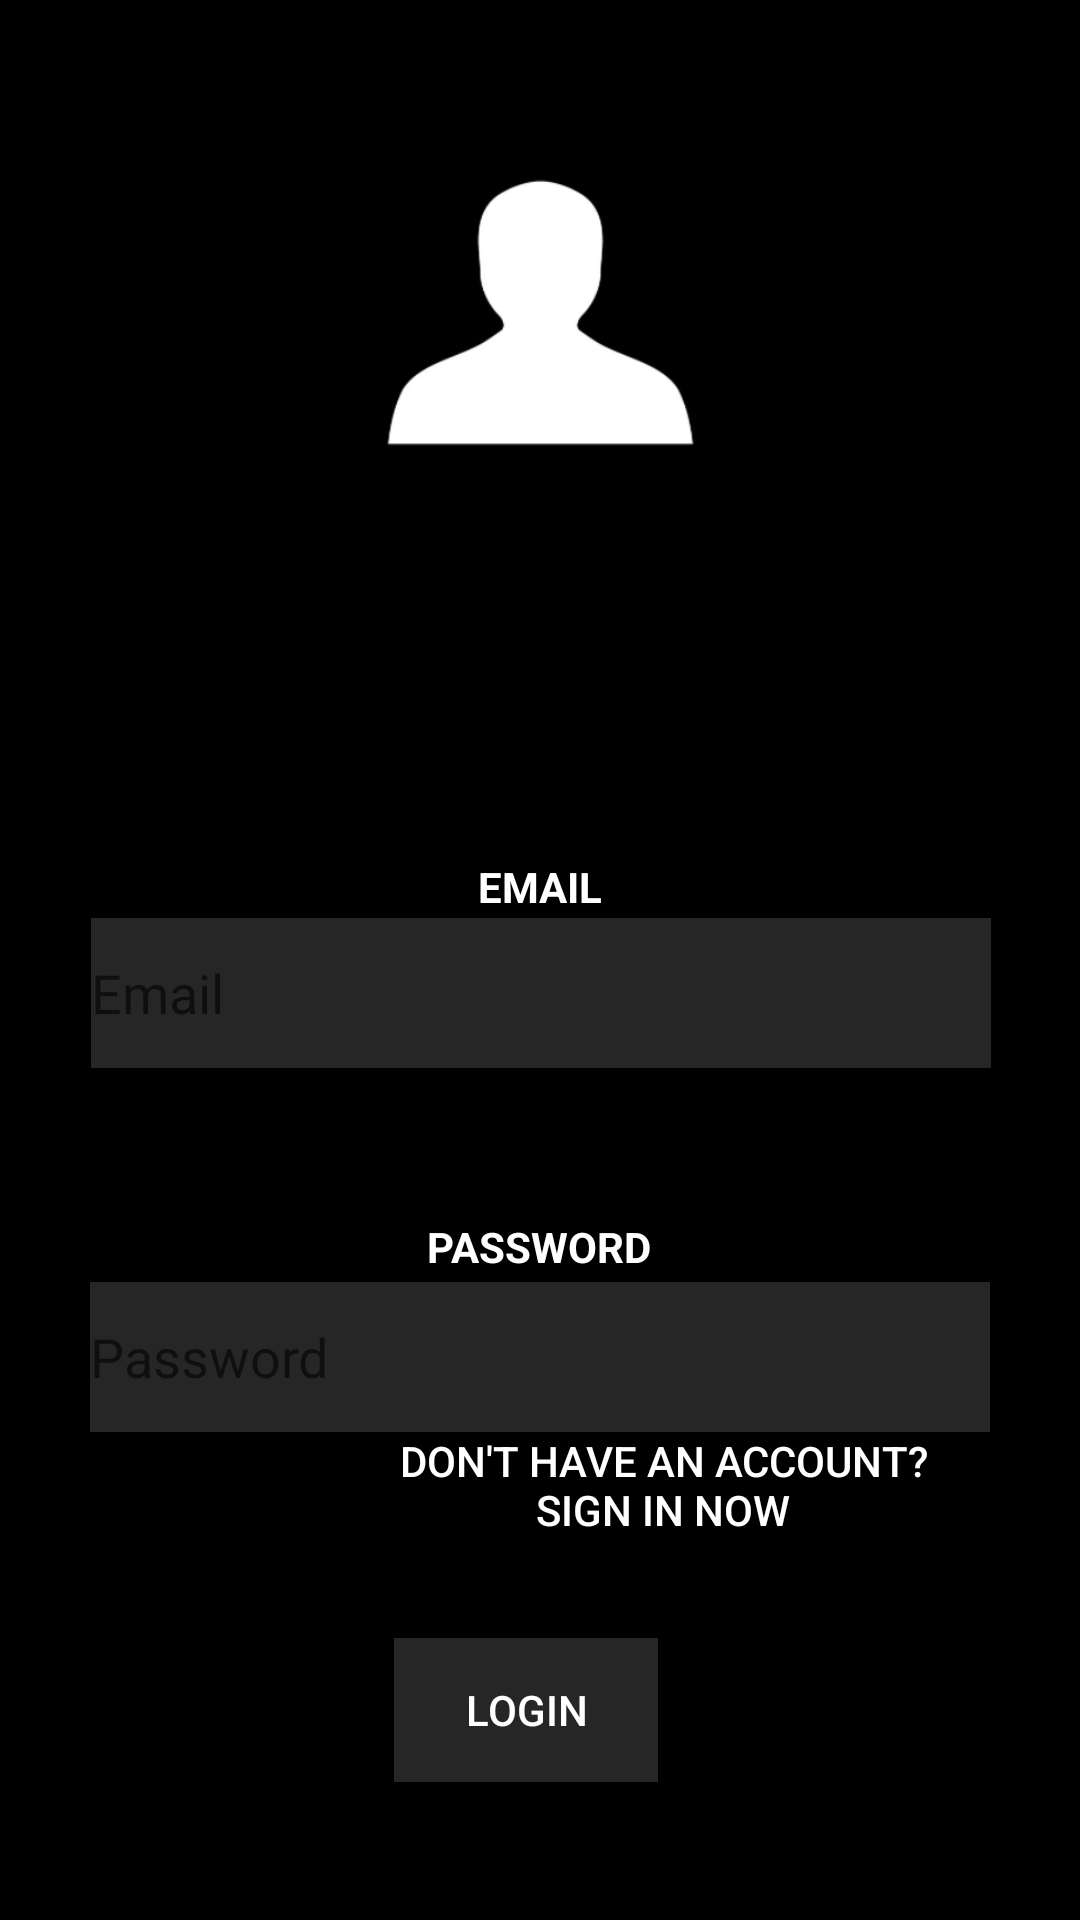

Icon bounding boxes for this 1080 x 1920 phone screenshot, format (x1, y1, x2, y2):
user: (387, 180, 694, 445)
